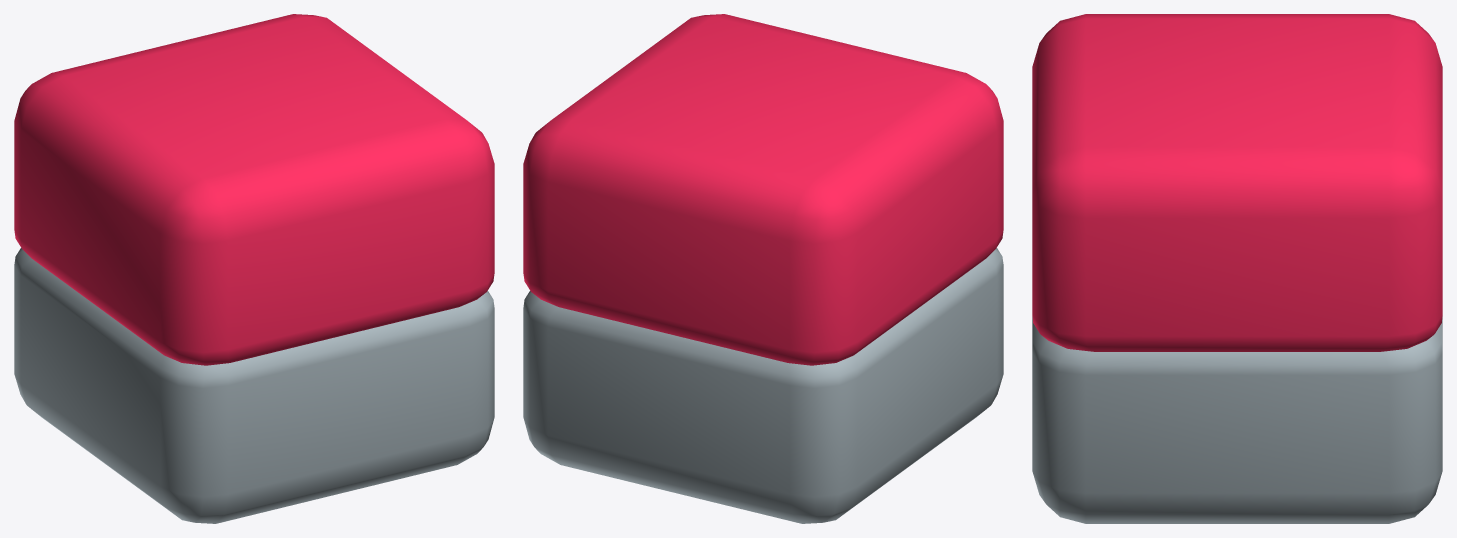
The model's file is tileSmall_teamRed-col.glb.
3 views of the same model, side by side, from view 1: azimuth 30°, elevation 25°; view 2: azimuth 150°, elevation 25°; view 3: azimuth 270°, elevation 25° (orthographic). The views are drawn at different scales.
Parts seen in each view (by area): view 1: tileSmall_teamRed-col; view 2: tileSmall_teamRed-col; view 3: tileSmall_teamRed-col.
Boxes of the visible parts, x1,y1,x2,y2 form: tileSmall_teamRed-col: [14, 14, 494, 523]; tileSmall_teamRed-col: [523, 14, 1003, 523]; tileSmall_teamRed-col: [1032, 14, 1442, 523].
Bounding box in the file's own units: 1 × 1 × 1.
